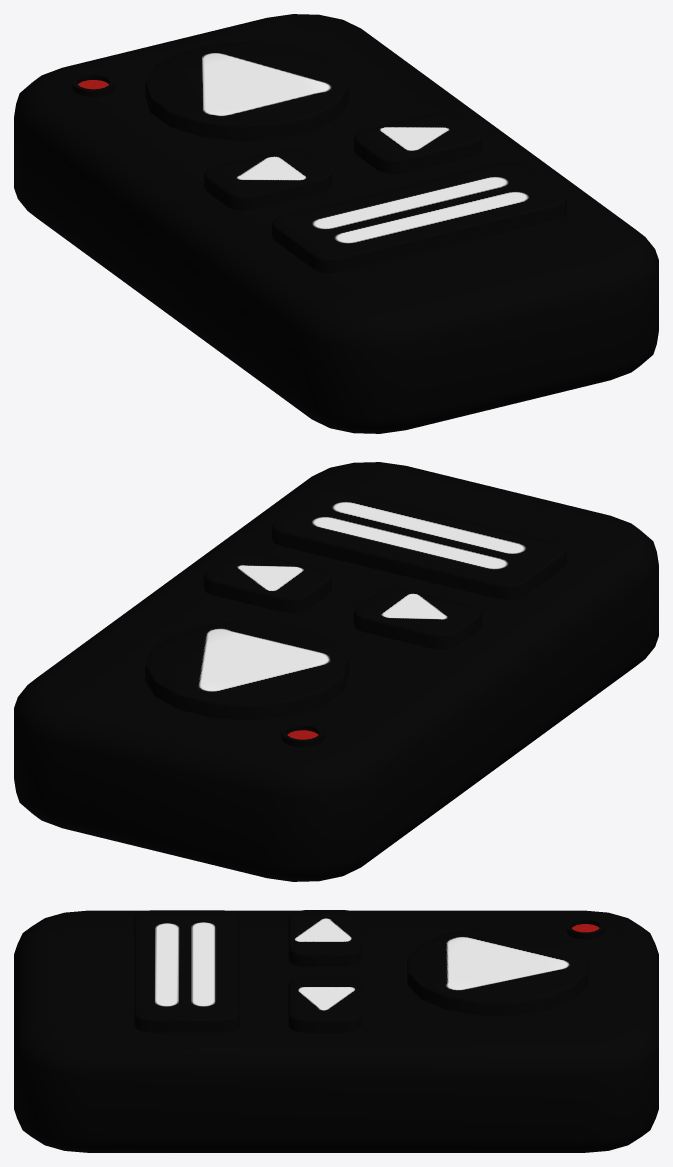
The model's file is PresController.fbx.
The picture shows the model from 3 angles, top to bottom: view 1: azimuth 30°, elevation 25°; view 2: azimuth 150°, elevation 25°; view 3: azimuth 270°, elevation 25°; orthographic projection. The views are drawn at different scales.
Visible parts, largest first — view 1: Cube.001; view 2: Cube.001; view 3: Cube.001.
Part boxes in pixels (x1=…): Cube.001: x1=14, y1=14, x2=658, y2=433; Cube.001: x1=14, y1=462, x2=658, y2=881; Cube.001: x1=14, y1=910, x2=658, y2=1152.
Size of the model in its own units: 39.42 by 14.65 by 70.2.
